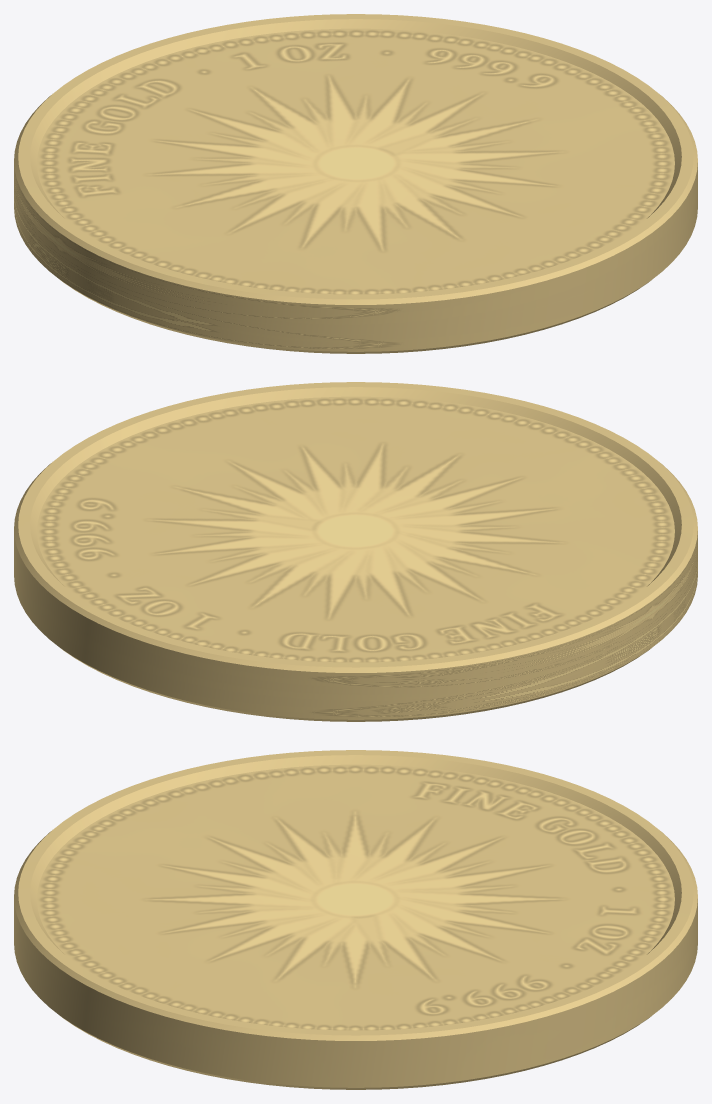
Rendered from GoldCoin.obj.
3 views of the same model, one above another, from view 1: azimuth 30°, elevation 25°; view 2: azimuth 150°, elevation 25°; view 3: azimuth 270°, elevation 25° (orthographic).
Visible parts, largest first — view 1: GoldCoin; view 2: GoldCoin; view 3: GoldCoin.
Part boxes in pixels (bbox=[...]): GoldCoin: bbox=[14, 14, 697, 353]; GoldCoin: bbox=[14, 382, 697, 721]; GoldCoin: bbox=[14, 750, 697, 1089].
Bounding box in the file's own units: 0.0327 × 0.00287 × 0.0327.
Materials: 1 (1 with a texture image).
